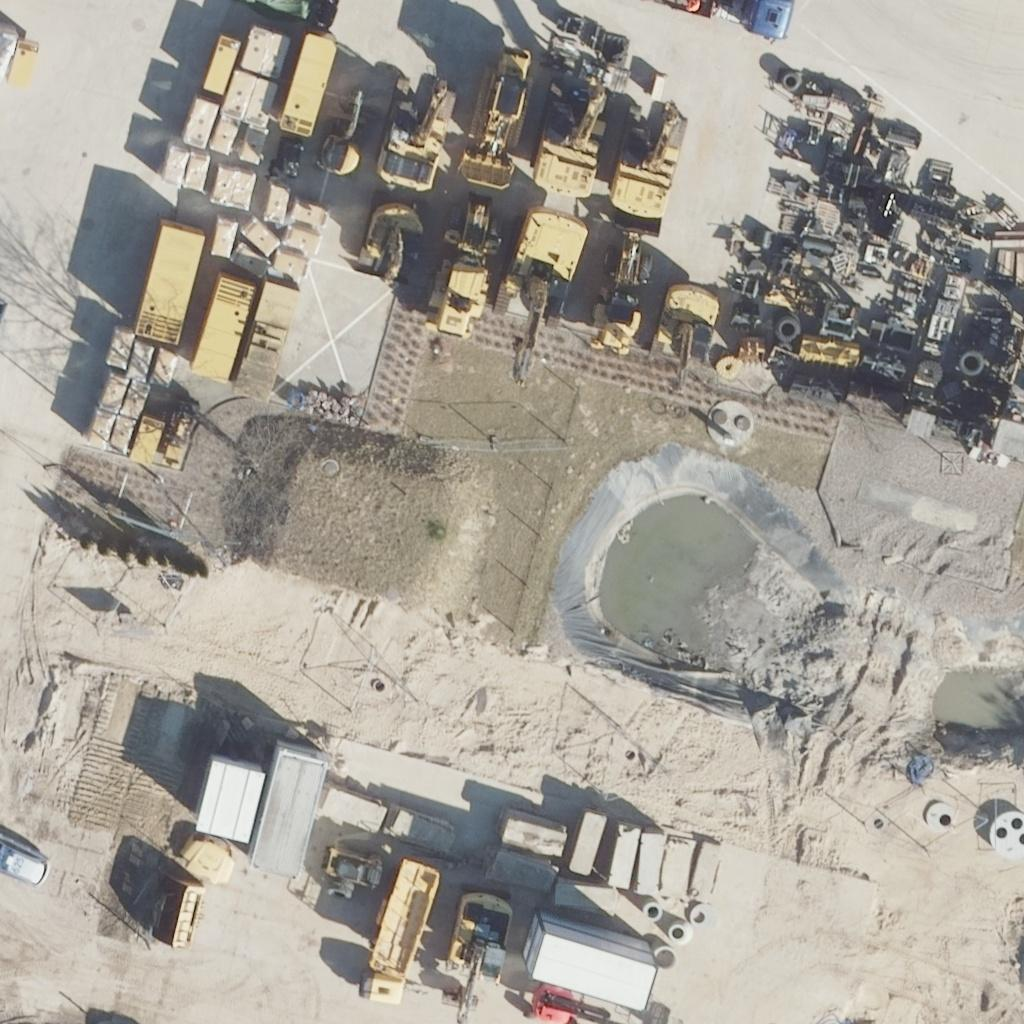ciezarowka: (377, 839, 441, 1024)
koparka: (494, 203, 592, 387), (609, 84, 693, 231), (428, 196, 503, 345), (546, 52, 626, 190), (378, 65, 460, 198), (444, 881, 515, 1024), (594, 226, 654, 368), (650, 280, 722, 394), (356, 199, 426, 292)
samochod_osobowy: (3, 826, 57, 898)
spychacz: (465, 38, 537, 190)
